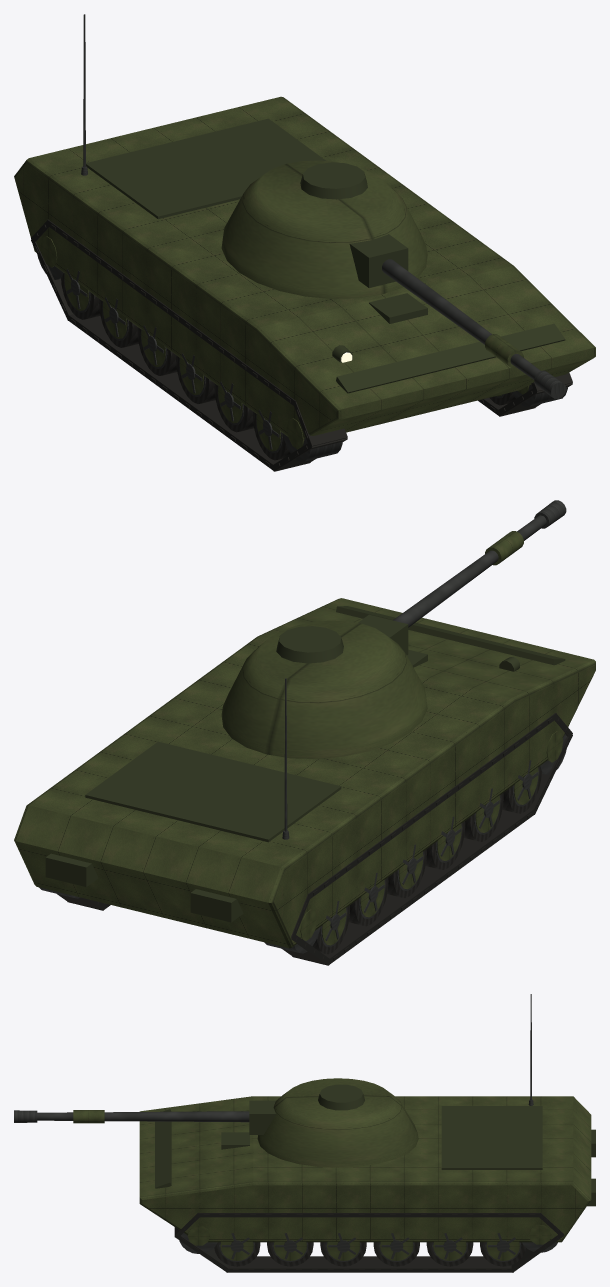
3 renders of one model, top to bottom at view 1: azimuth 30°, elevation 25°; view 2: azimuth 150°, elevation 25°; view 3: azimuth 270°, elevation 25°, orthographic. The views are drawn at different scales.
Parts seen in each view (by area): view 1: PT76_Amphibious_Tank; view 2: PT76_Amphibious_Tank; view 3: PT76_Amphibious_Tank.
Part boxes in pixels (x1,y1,x2,y2): PT76_Amphibious_Tank: (14,14,595,471); PT76_Amphibious_Tank: (14,500,595,965); PT76_Amphibious_Tank: (14,994,595,1272).
Size of the model in its own units: 3.08 by 3.24 by 8.53.
6 materials, 3 textured.
